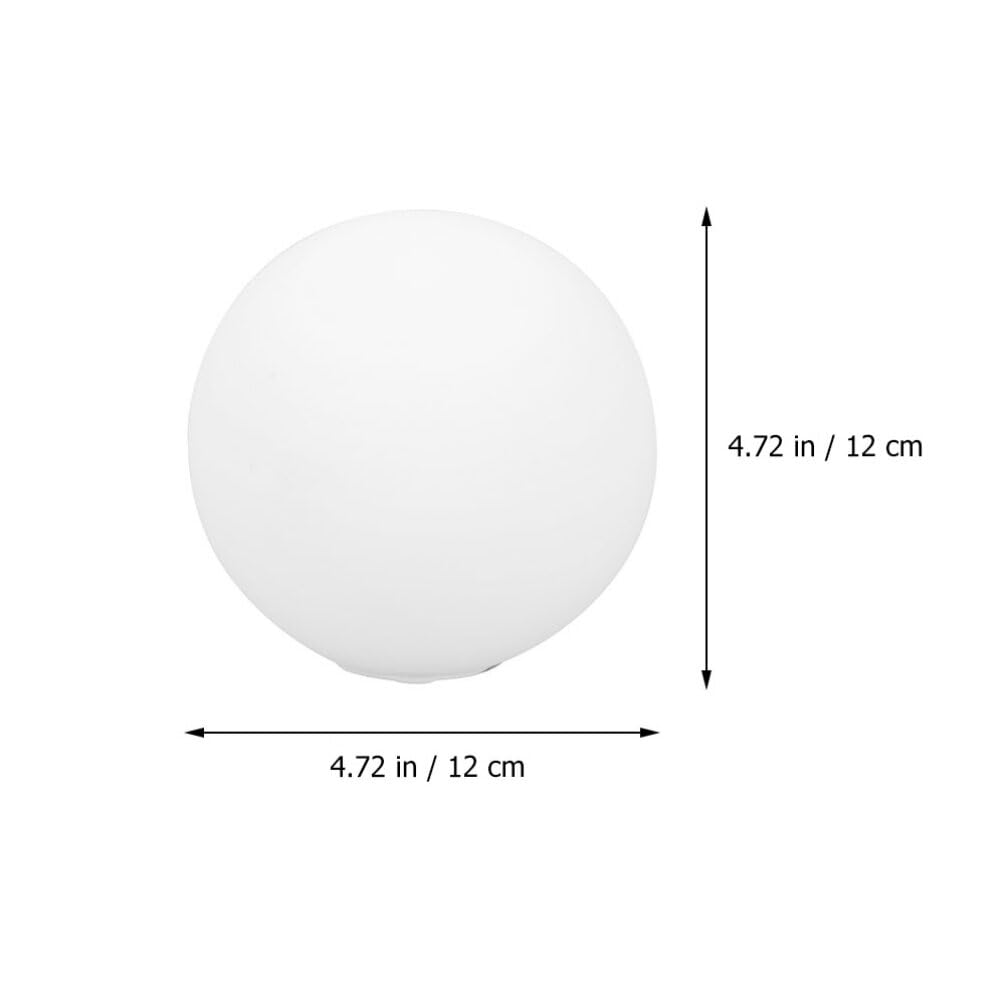12: (848, 435, 875, 457)
4.72: (728, 435, 783, 457), (330, 755, 385, 777)
cm: (886, 440, 922, 456)
